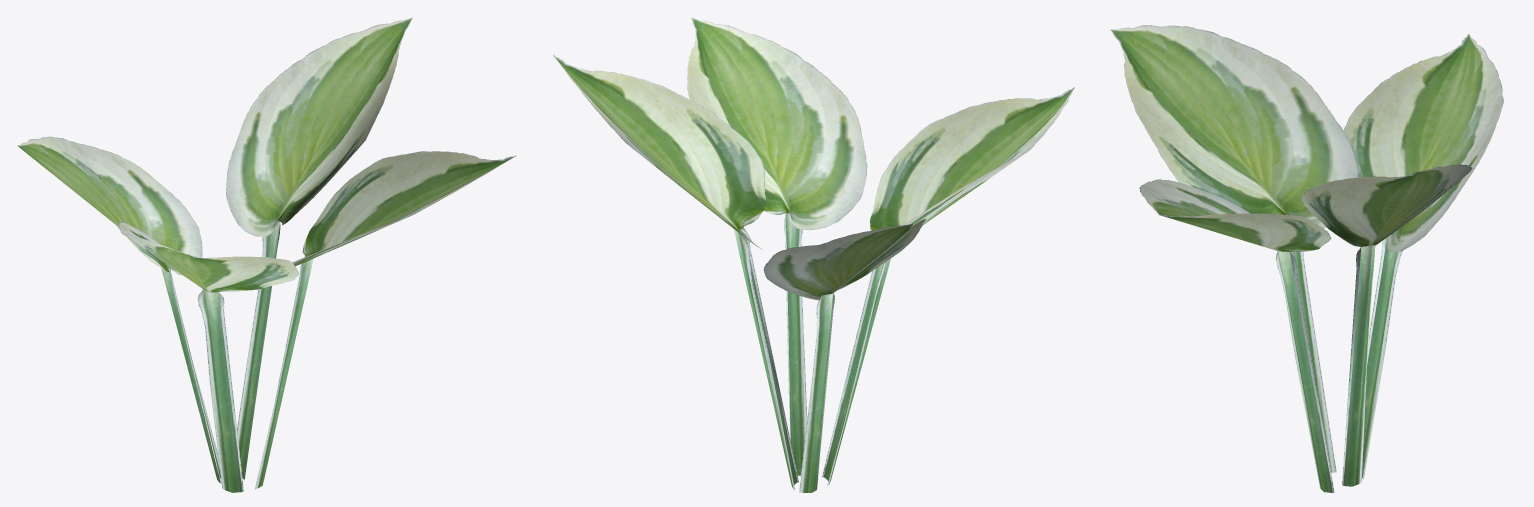
File: plant_small_wg_02G.fbx
3 views of the same model, side by side, from view 1: azimuth 30°, elevation 25°; view 2: azimuth 150°, elevation 25°; view 3: azimuth 270°, elevation 25° (orthographic). The views are drawn at different scales.
Parts seen in each view (by area): view 1: plant_small_wg_02G; view 2: plant_small_wg_02G; view 3: plant_small_wg_02G.
Boxes of the visible parts, bbox=[...] form: plant_small_wg_02G: bbox=[17, 17, 516, 492]; plant_small_wg_02G: bbox=[553, 17, 1074, 492]; plant_small_wg_02G: bbox=[1110, 25, 1503, 492].
Size of the model in its own units: 40.47 by 38.34 by 33.66.
